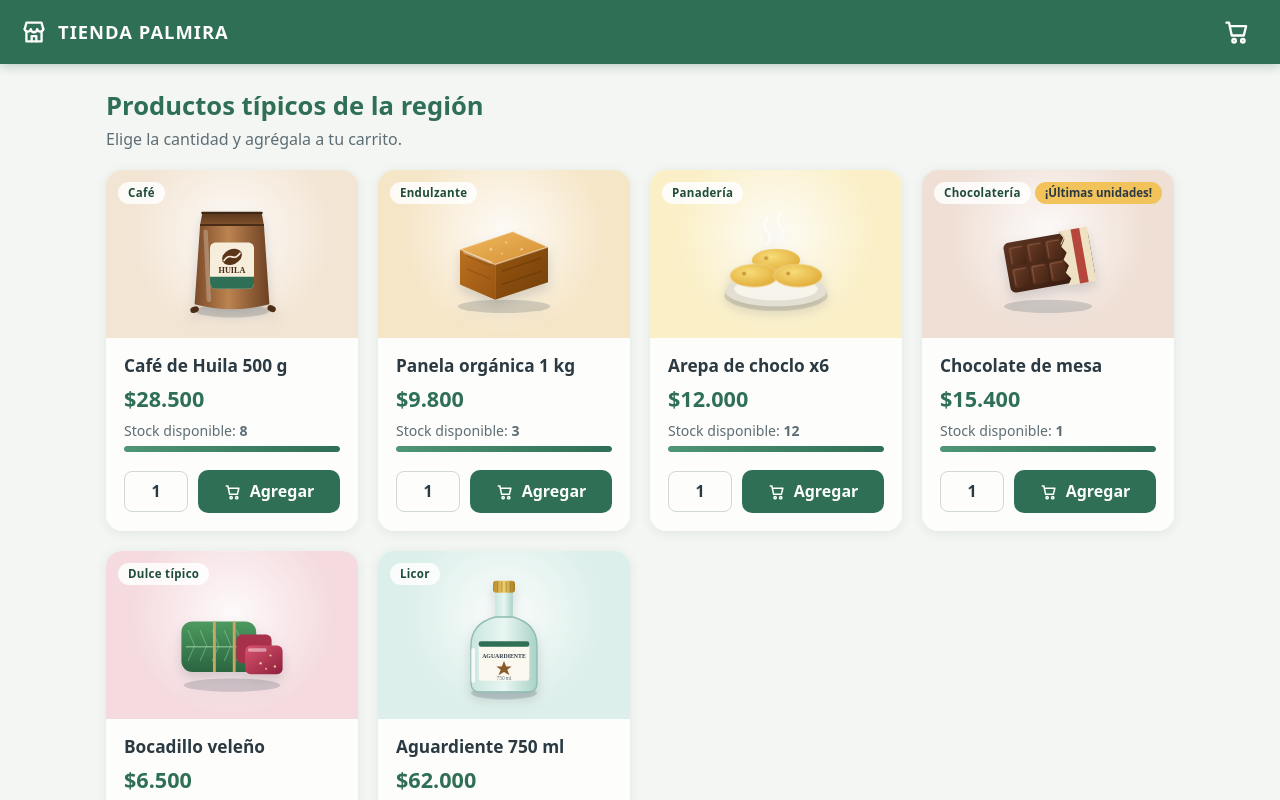
Integración con el backend (API simulada) › Si el backend rechaza el pedido, muestra el error y conserva el carrito
The width and height of the screenshot is (1280, 800).
Replace the text in the number field named "Cantidad de Café de Huila 500 g" with "2" at (156, 492), box left=124, top=471, right=188, bottom=512
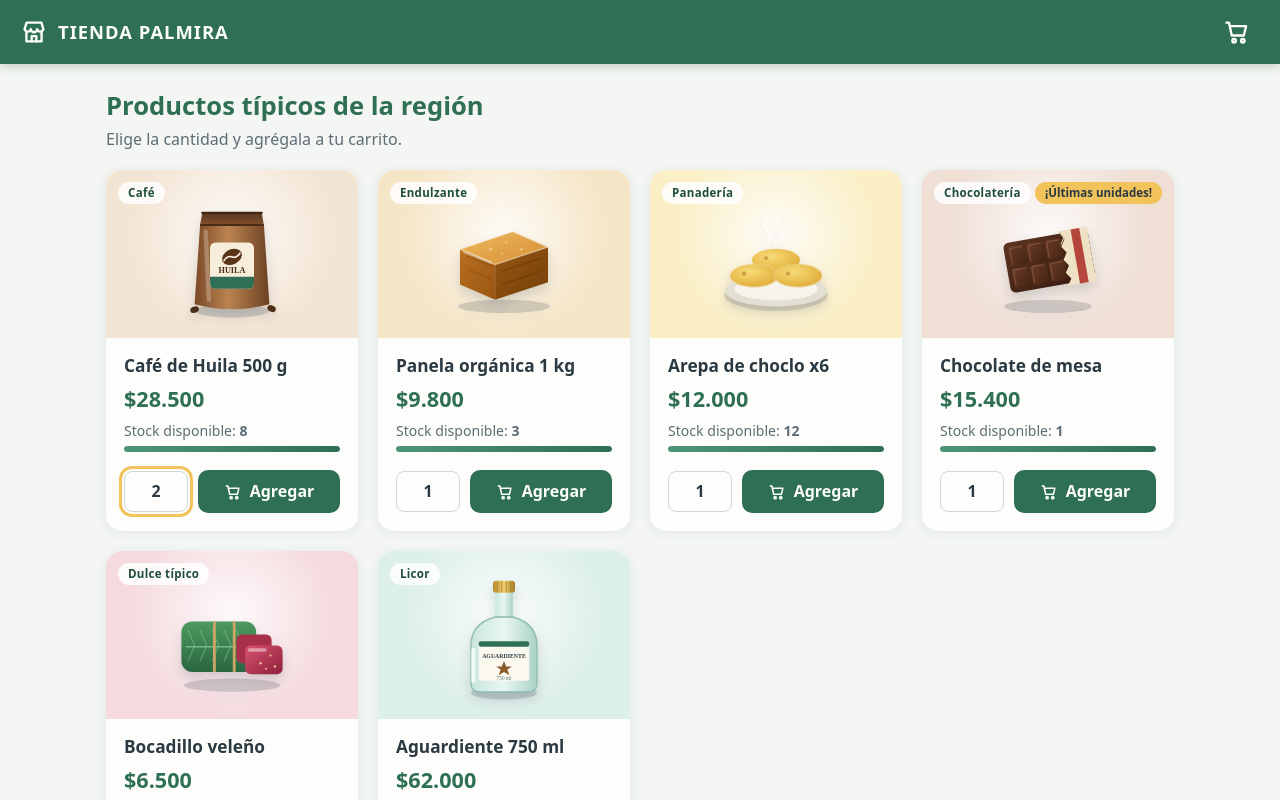
Click the button "Agregar" below "$28.500" at (269, 492), box left=198, top=470, right=340, bottom=513
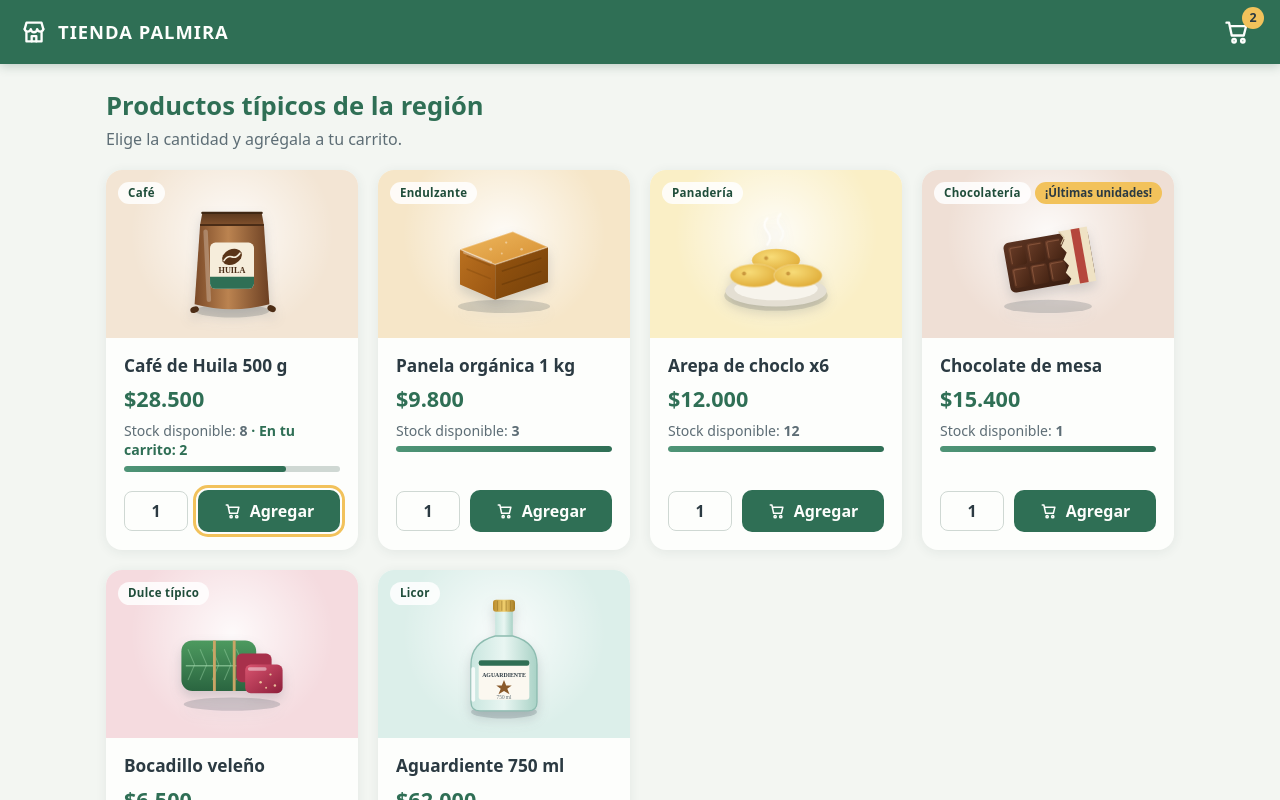
Click the button named "Abrir carrito" at (1237, 32), box left=1214, top=9, right=1260, bottom=55
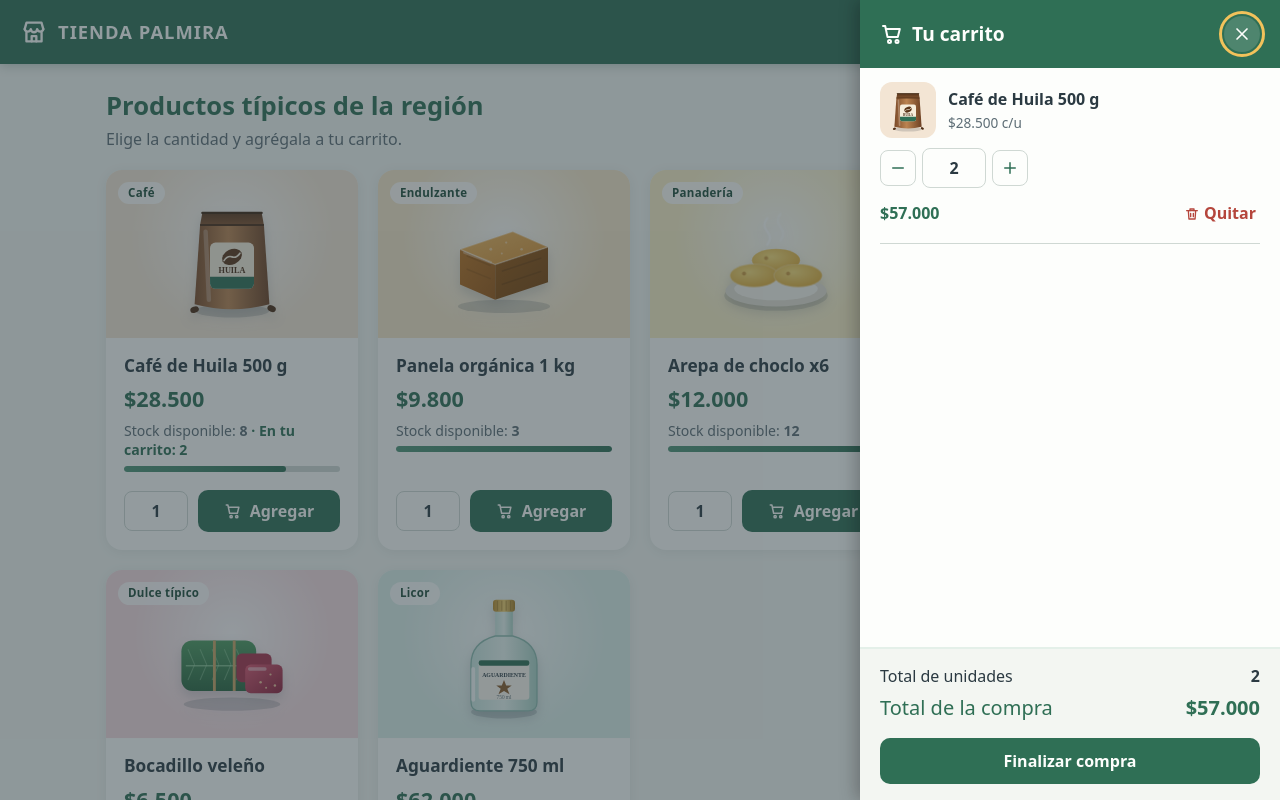
Click the button "Finalizar compra" at (1070, 761), box left=880, top=738, right=1260, bottom=784
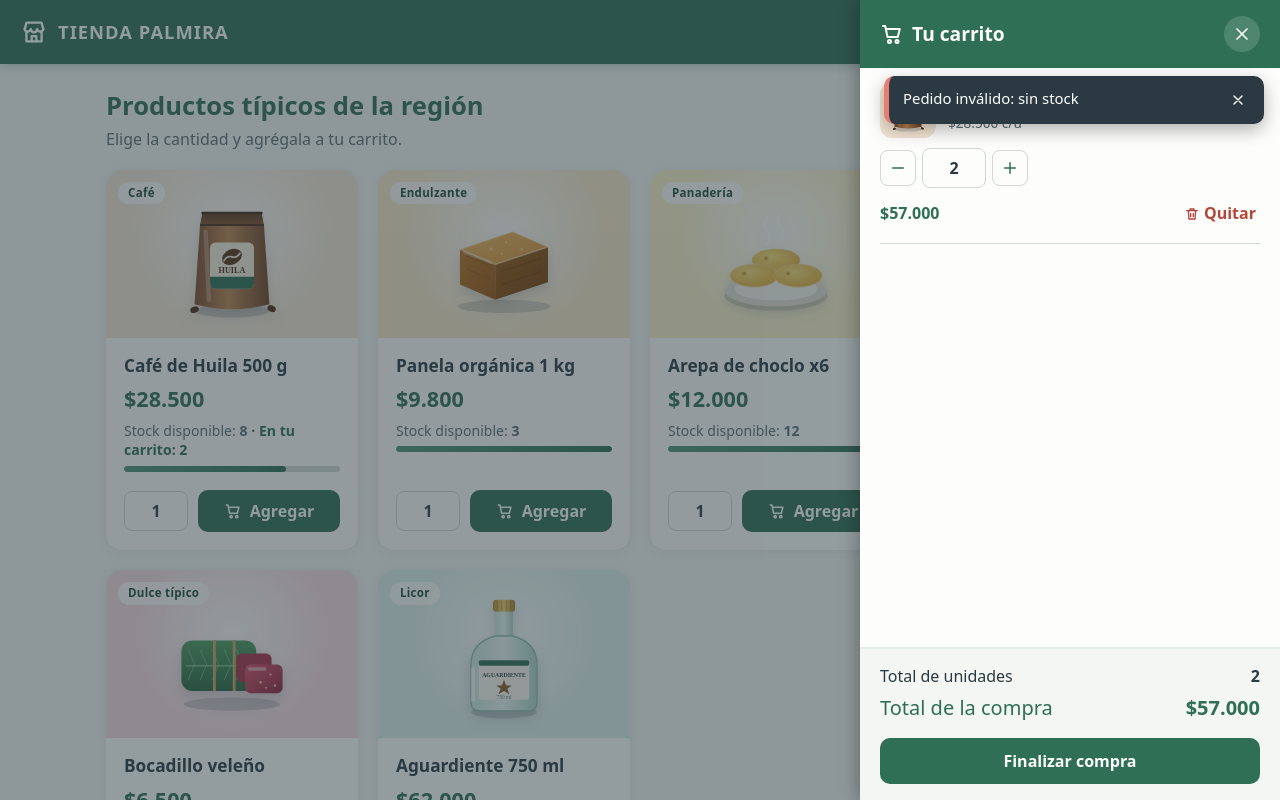
Expected: the text with test id "contador-carrito" reads "2", left=1249, top=9, right=1256, bottom=26
Expected: the text "Pedido inválido: sin stock" is shown, left=903, top=88, right=1079, bottom=108
